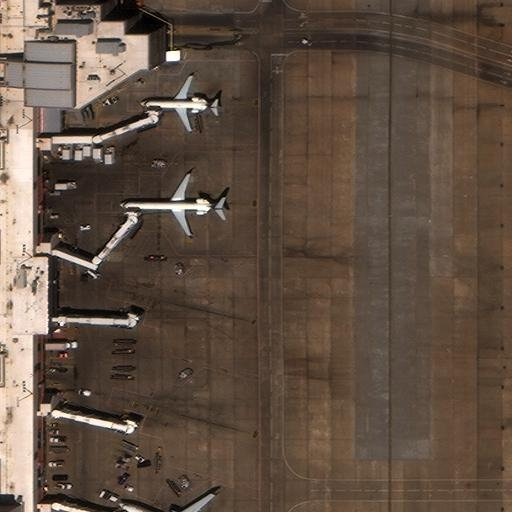Medium Civil Transport: (116, 168, 227, 237), (137, 74, 220, 132), (116, 491, 221, 512)
